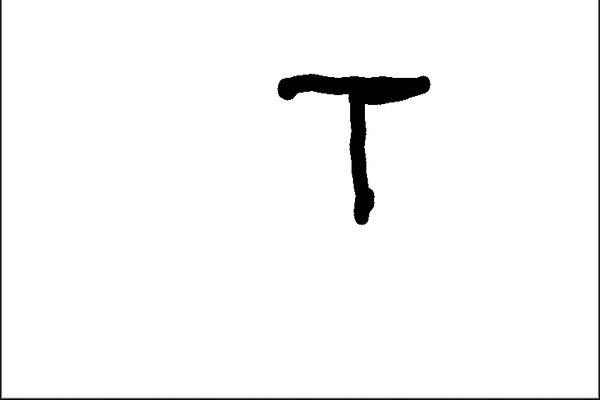T: (263, 65, 434, 226)
